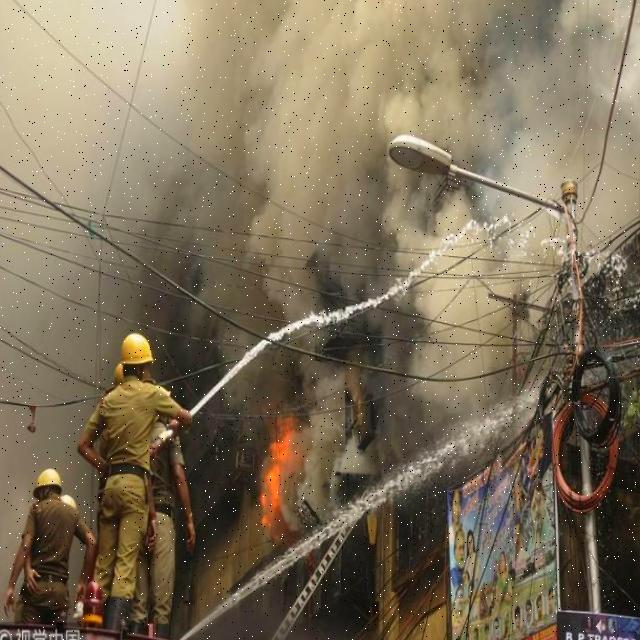fire: (259, 400, 357, 577)
